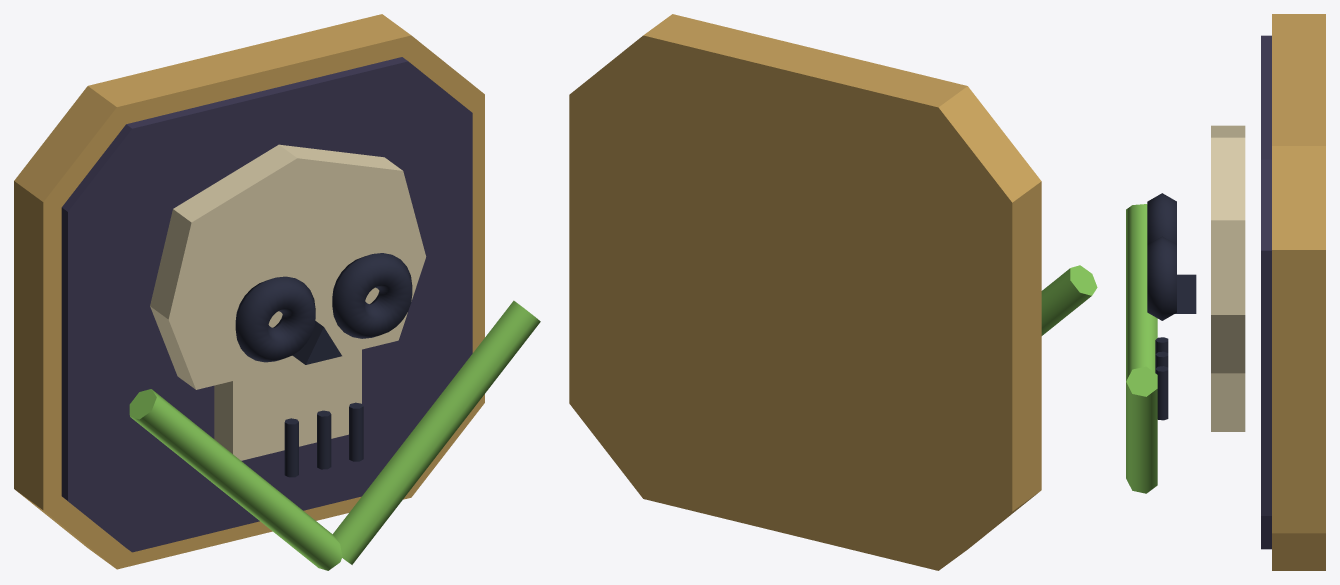
Rendered from poison_strong.fbx.
The picture shows the model from 3 angles, left to right: view 1: azimuth 30°, elevation 25°; view 2: azimuth 150°, elevation 25°; view 3: azimuth 270°, elevation 25°; orthographic projection. The views are drawn at different scales.
Visible parts, largest first — view 1: poison_strong; view 2: poison_strong; view 3: poison_strong.
Part boxes in pixels (x1,y1,x2,y2): poison_strong: (14,14,540,570); poison_strong: (569,14,1097,570); poison_strong: (1126,14,1325,570).
Size of the model in its own units: 0.96 by 0.96 by 0.409.
